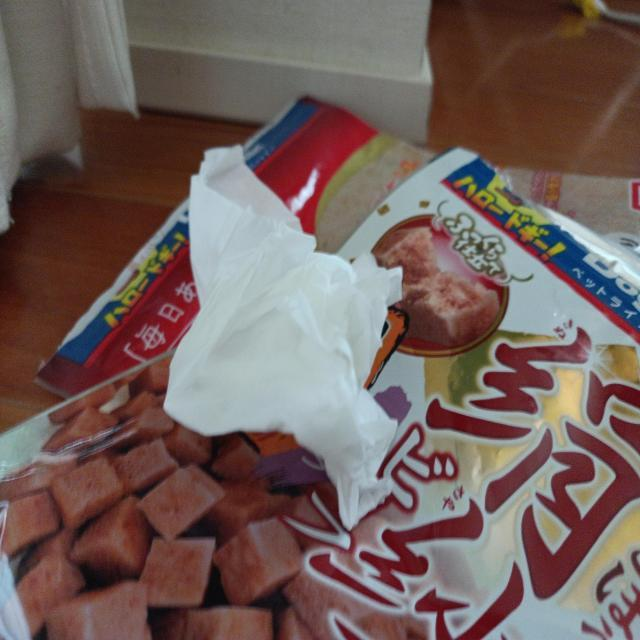Paper: (170, 129, 395, 467)
